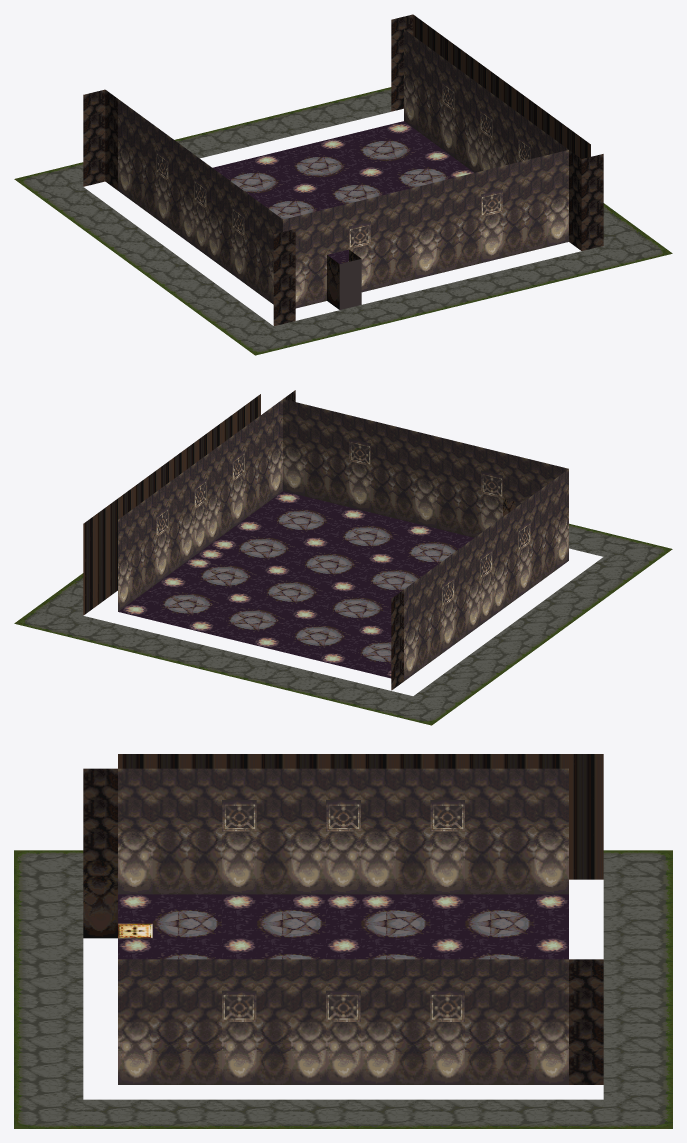
Rendered from catalog.obj.
The picture shows the model from 3 angles, top to bottom: view 1: azimuth 30°, elevation 25°; view 2: azimuth 150°, elevation 25°; view 3: azimuth 270°, elevation 25°; orthographic projection. The views are drawn at different scales.
Visible parts, largest first — view 1: cell_15_9, cell_27_9, cell_25_9, cell_28_22, cell_16_9, cell_22_9, cell_18_9, cell_20_9, cell_26_9, cell_17_9, cell_19_9, cell_21_9 (+26 smaller); view 2: cell_15_9, cell_16_9, cell_17_9, cell_18_9, cell_19_9, cell_21_9, cell_20_9, cell_22_9, cell_23_9, cell_24_9, cell_15_20, cell_15_13 (+29 smaller); view 3: cell_27_9, cell_27_10, cell_27_13, cell_27_17, cell_27_20, cell_27_11, cell_27_12, cell_27_14, cell_27_15, cell_27_16, cell_27_18, cell_27_19 (+68 smaller).
Part boxes in pixels (x1,y1,x2,y2): cell_15_9: (547,141,603,250); cell_27_9: (270,210,304,325); cell_25_9: (327,203,361,309); cell_28_22: (83,89,105,186); cell_16_9: (525,155,546,252); cell_22_9: (393,187,414,284); cell_18_9: (481,166,502,263); cell_20_9: (437,176,458,273); cell_26_9: (305,209,326,306); cell_17_9: (503,160,524,257); cell_19_9: (459,171,480,268); cell_21_9: (415,182,436,279); cell_15_9: (270,390,304,505); cell_16_9: (292,404,326,510); cell_17_9: (315,410,348,516); cell_18_9: (336,415,370,521); cell_19_9: (358,420,392,526); cell_21_9: (402,431,436,537); cell_20_9: (380,426,414,532); cell_22_9: (424,436,458,542); cell_23_9: (446,442,480,546); cell_24_9: (481,447,502,532); cell_15_20: (130,501,164,607); cell_15_13: (219,436,253,542); cell_27_9: (83,768,152,908); cell_27_10: (152,768,187,908); cell_27_13: (256,768,291,908); cell_27_17: (395,768,430,908); cell_27_20: (499,768,534,908); cell_27_11: (187,768,221,908); cell_27_12: (222,768,256,908); cell_27_14: (291,768,325,908); cell_27_15: (326,768,360,908); cell_27_16: (361,768,395,908); cell_27_18: (430,768,464,908); cell_27_19: (465,768,499,908).
Bounding box in the file's own units: 0.2969 × 0.0625 × 0.2969.
10 materials, 10 textured.
